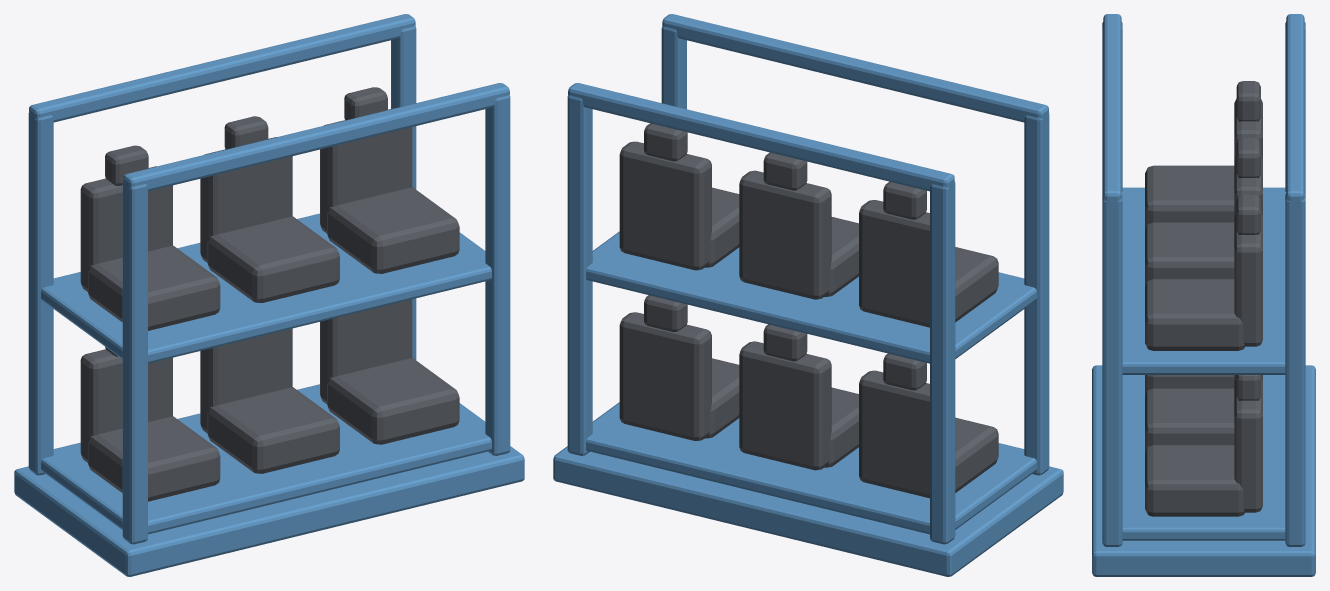
Rendered from btf-seat-rack.glb.
3 views of the same model, side by side, from view 1: azimuth 30°, elevation 25°; view 2: azimuth 150°, elevation 25°; view 3: azimuth 270°, elevation 25° (orthographic). The views are drawn at different scales.
Parts seen in each view (by area): view 1: 145-seat-rack/0, 145-seat-rack/1; view 2: 145-seat-rack/0, 145-seat-rack/1; view 3: 145-seat-rack/0, 145-seat-rack/1.
Part boxes in pixels (x1,y1,x2,y2): 145-seat-rack/0: (14,14,524,576); 145-seat-rack/1: (80,87,459,501); 145-seat-rack/0: (553,14,1063,576); 145-seat-rack/1: (619,123,998,498); 145-seat-rack/0: (1092,14,1315,576); 145-seat-rack/1: (1145,81,1262,516).
Size of the model in its own units: 72087 by 67828 by 36049.
